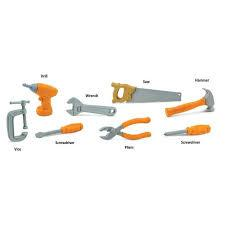wrench: (65, 95, 116, 117)
